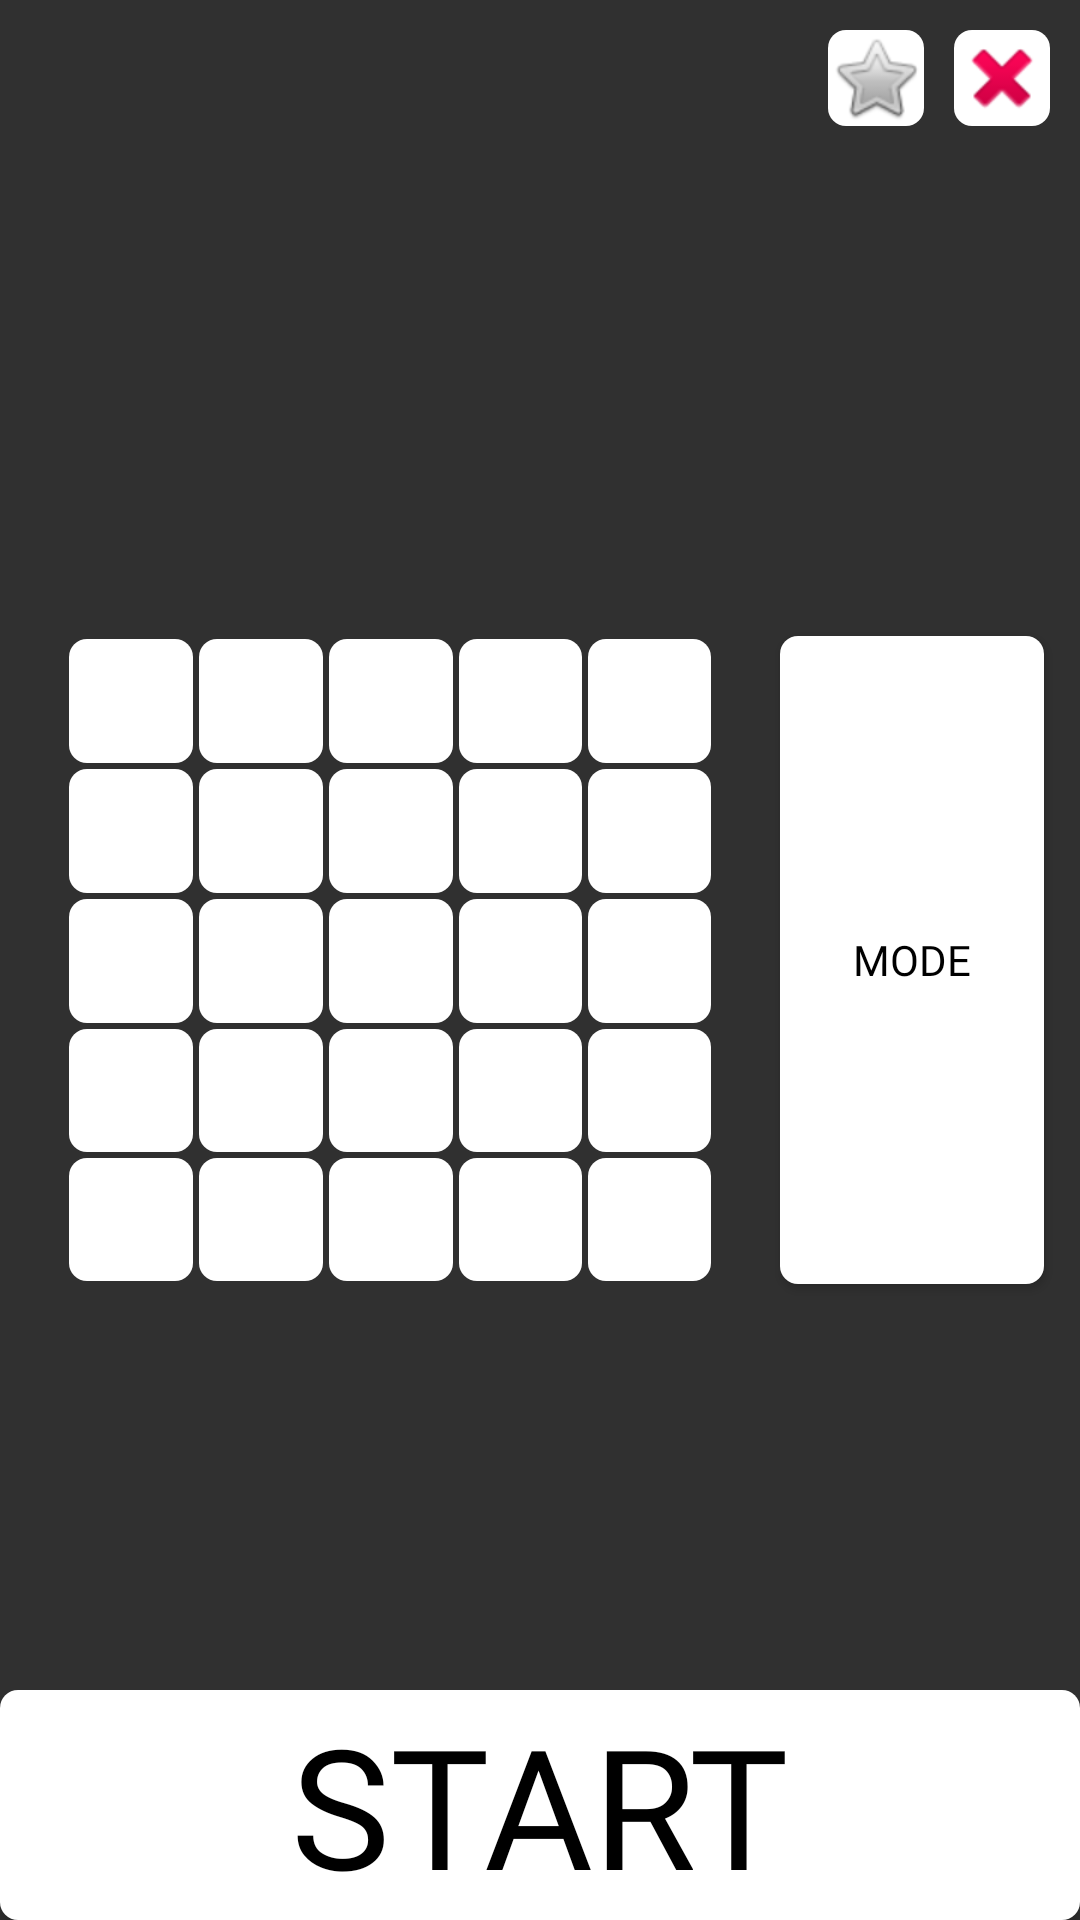

Icons on this 1080px×1920px Android screen, each with its box as box=[x1, y1, x2, y2]:
delete: box=[954, 30, 1050, 126]
star: box=[828, 30, 924, 126]
